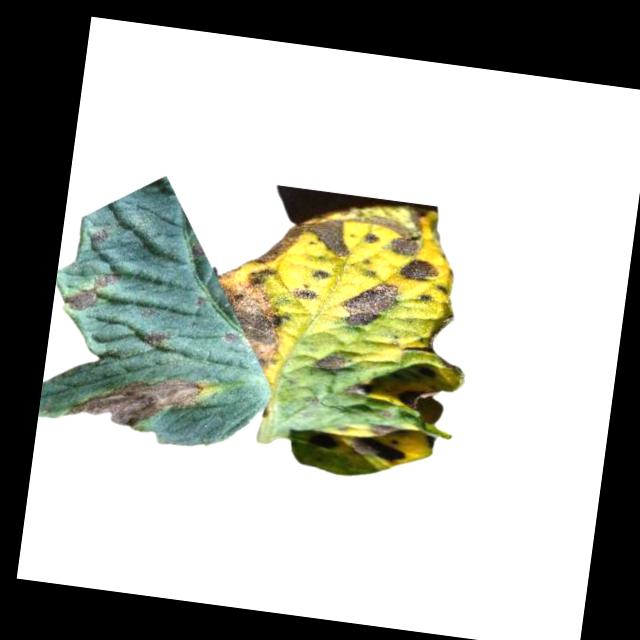Early_blight: (195, 260, 291, 372), (64, 363, 208, 436), (239, 205, 355, 277), (339, 275, 402, 332), (354, 205, 427, 254), (61, 264, 121, 318), (350, 435, 404, 463), (395, 254, 438, 287), (313, 346, 348, 375), (140, 323, 167, 346), (290, 281, 317, 302)
